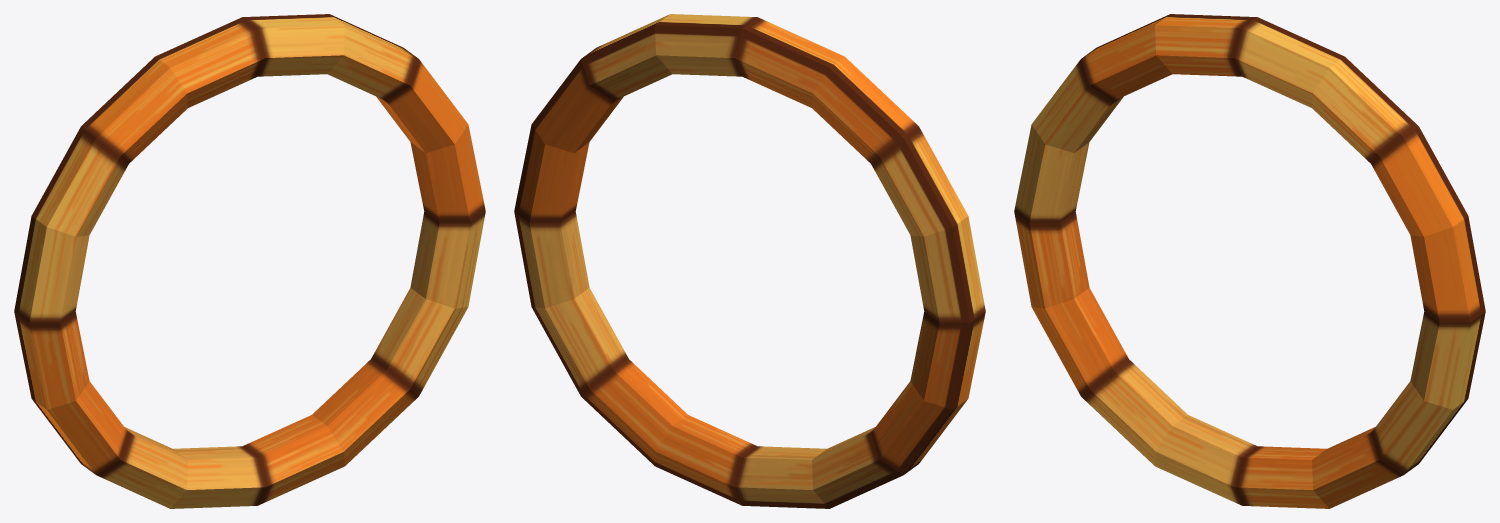
The model's file is AroBronce.glb.
The picture shows the model from 3 angles, left to right: view 1: azimuth 30°, elevation 25°; view 2: azimuth 150°, elevation 25°; view 3: azimuth 330°, elevation 25°; orthographic projection.
Parts seen in each view (by area): view 1: AroBronce; view 2: AroBronce; view 3: AroBronce.
Boxes of the visible parts, x1,y1,x2,y2 form: AroBronce: [14, 14, 485, 508]; AroBronce: [514, 14, 985, 508]; AroBronce: [1014, 14, 1485, 508].
Bounding box in the file's own units: 11.13 × 11.13 × 1.3.
1 material, 1 textured.
